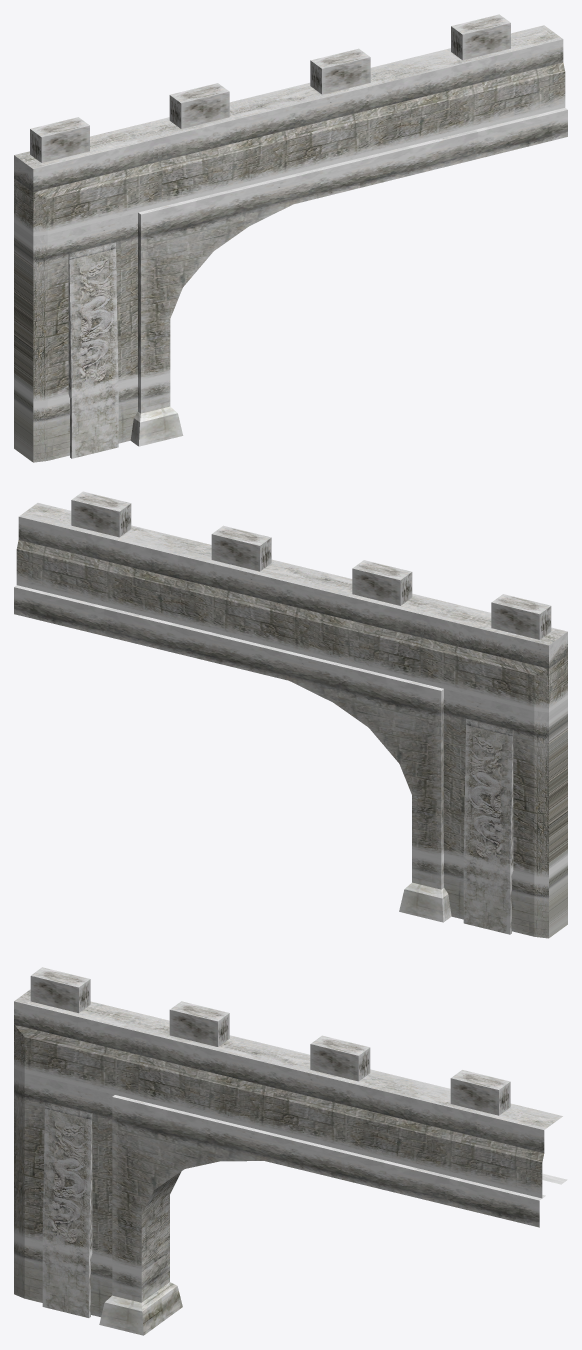
File: snow-bigdam-01.glb
The picture shows the model from 3 angles, top to bottom: view 1: azimuth 30°, elevation 25°; view 2: azimuth 150°, elevation 25°; view 3: azimuth 330°, elevation 25°; orthographic projection.
Visible parts, largest first — view 1: snow-bigdam-01, snow-bigdam-02; view 2: snow-bigdam-01, snow-bigdam-02; view 3: snow-bigdam-01, snow-bigdam-02.
Part boxes in pixels (x1,y1,x2,y2): snow-bigdam-01: (14, 14, 565, 462); snow-bigdam-02: (68, 108, 567, 458); snow-bigdam-01: (16, 491, 567, 938); snow-bigdam-02: (14, 585, 513, 934); snow-bigdam-01: (14, 967, 562, 1317); snow-bigdam-02: (42, 1095, 567, 1335).
Bounding box in the file's own units: 11.31 × 6.51 × 1.45.
2 materials, 2 textured.
